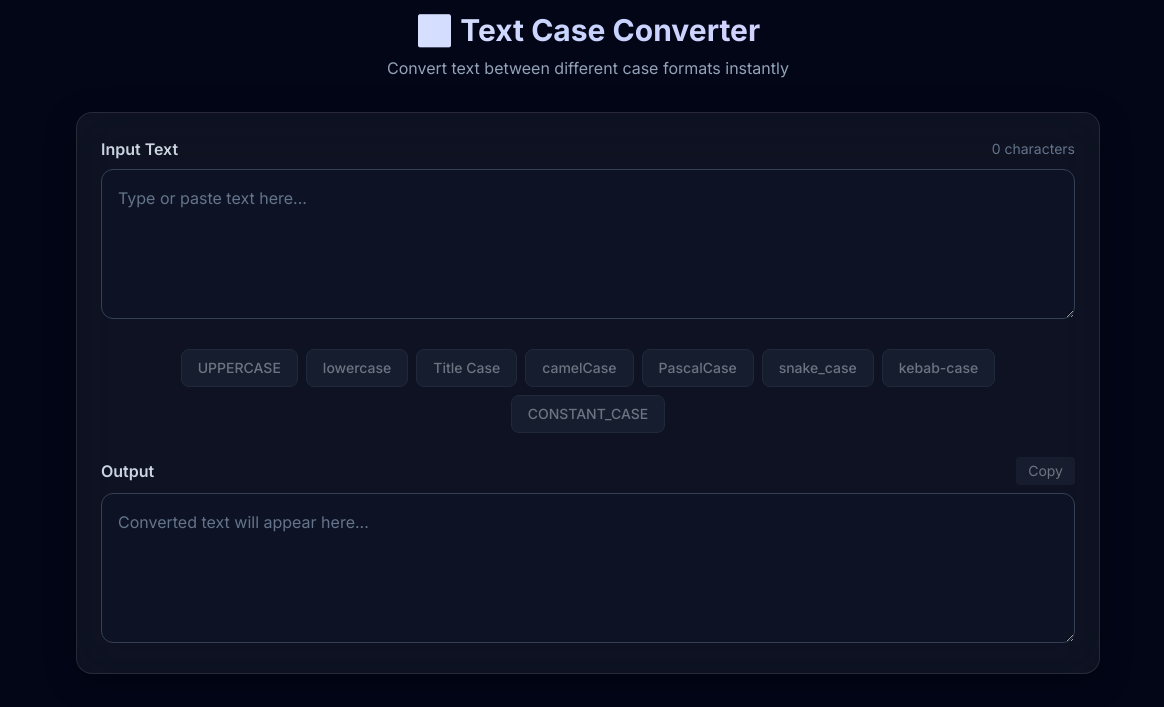
Scenario: Text Case Converter › converts text to lowercase
Step 1. Type "HELLO WORLD" into the text box with placeholder "Type or paste text here..." → (588, 244), box [101, 169, 1075, 319]
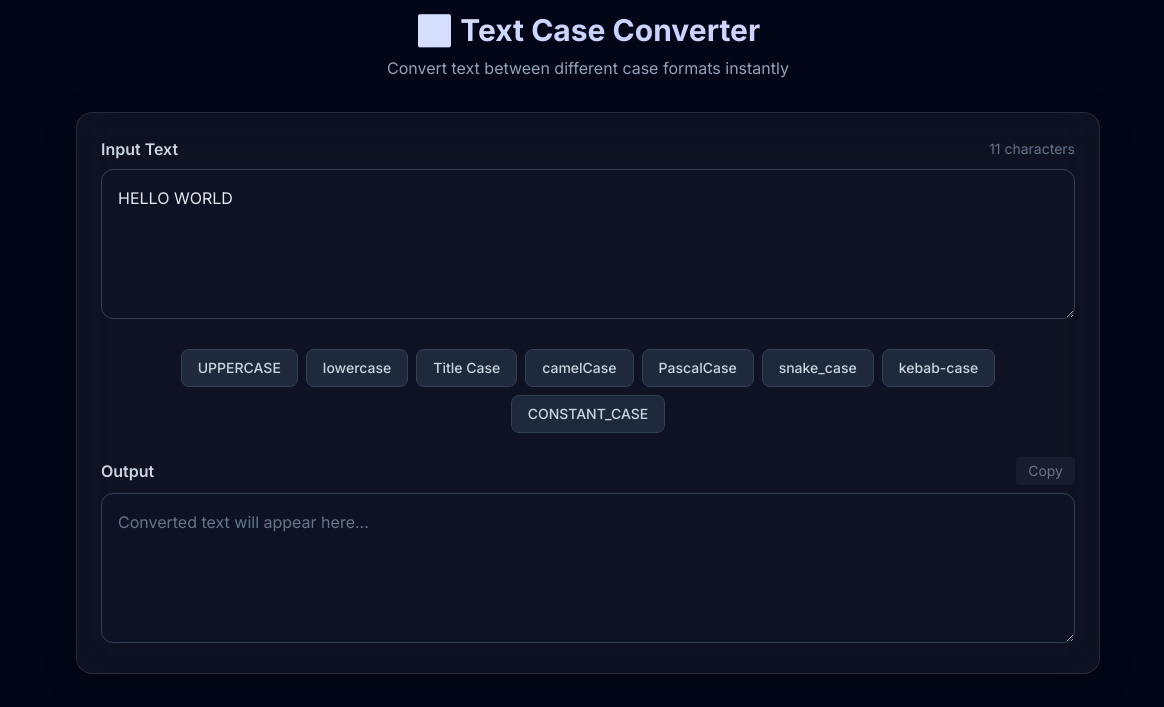
Step 2. Click the button "lowercase" → (357, 368), box [306, 349, 408, 387]
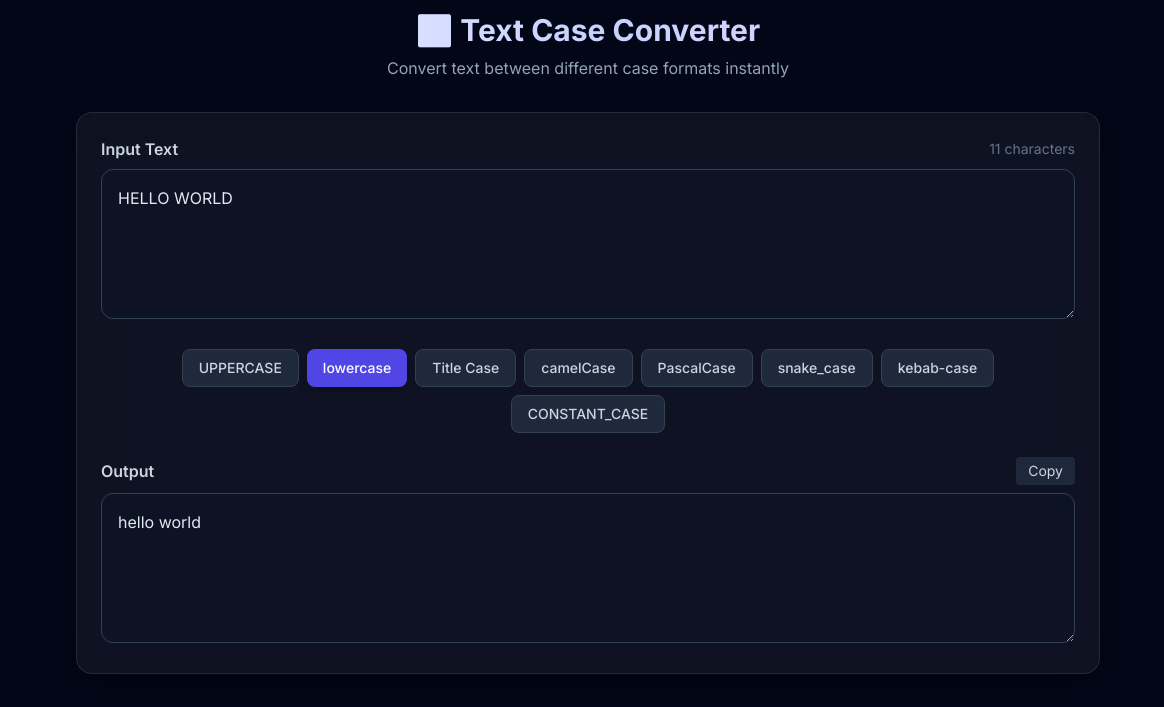
Check: the text box showing "hello world" below "Output" is shown, box [101, 493, 1075, 643]
